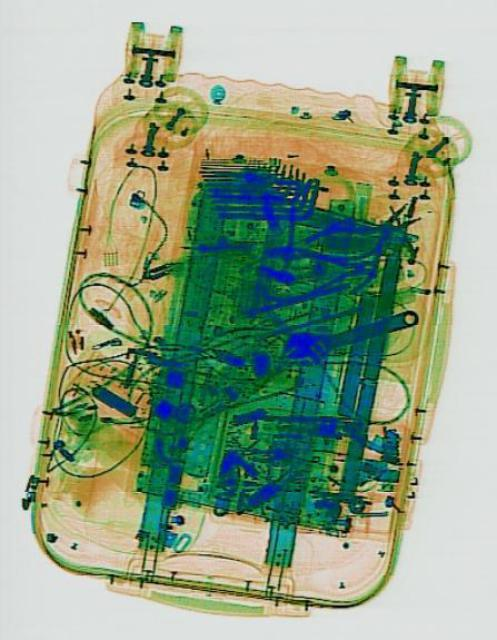Pliers: (301, 178, 430, 304), (258, 236, 372, 306)
Wrench: (282, 296, 419, 368)
